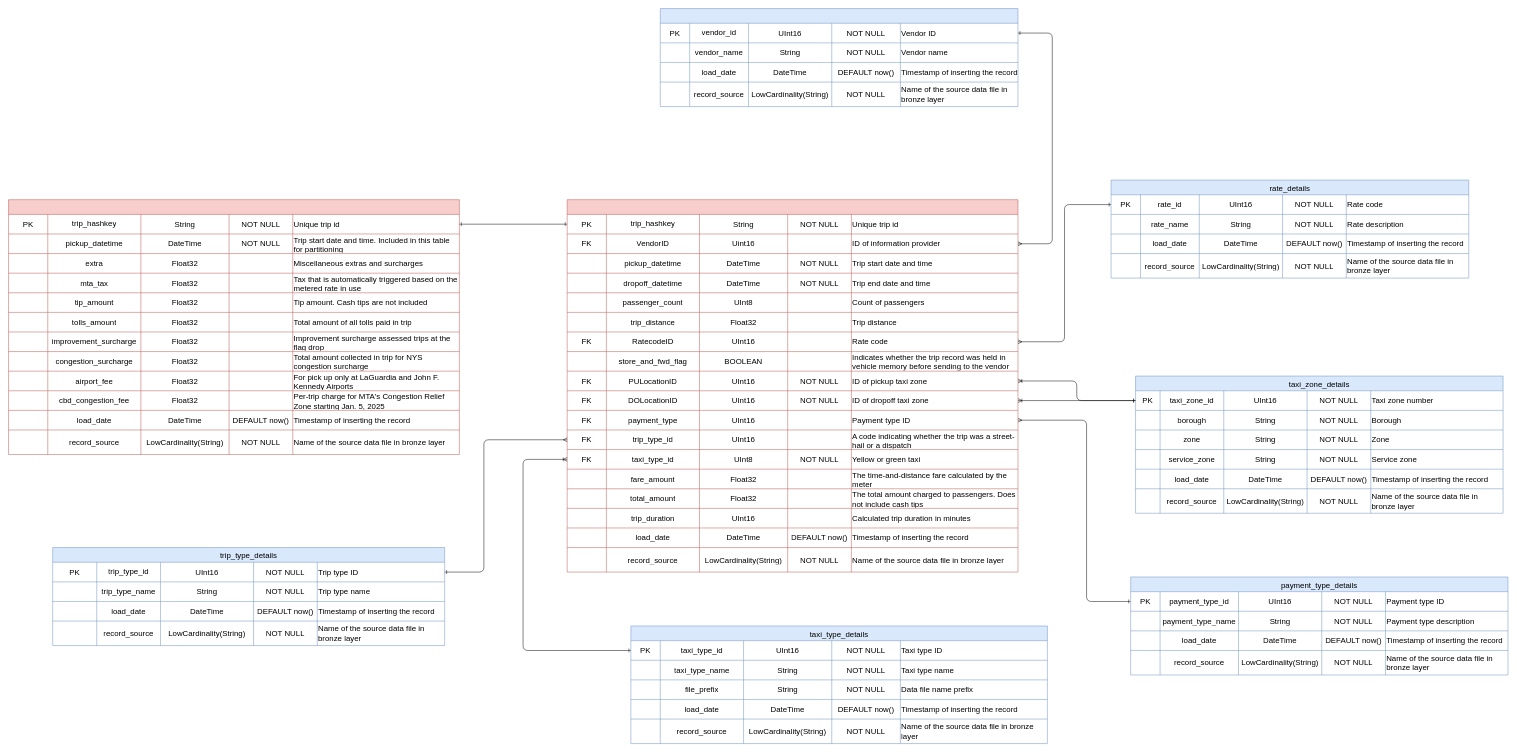
The diagram is 1517 pixels wide and 752 high, and some of its shapes have lost their labels. Here are the shapes that lost their labels. From the top down, the box of each, then its label:
(660, 8, 1018, 107): vendor_details
(8, 199, 459, 454): trip_fin_details
(567, 199, 1018, 572): trip_main_details
